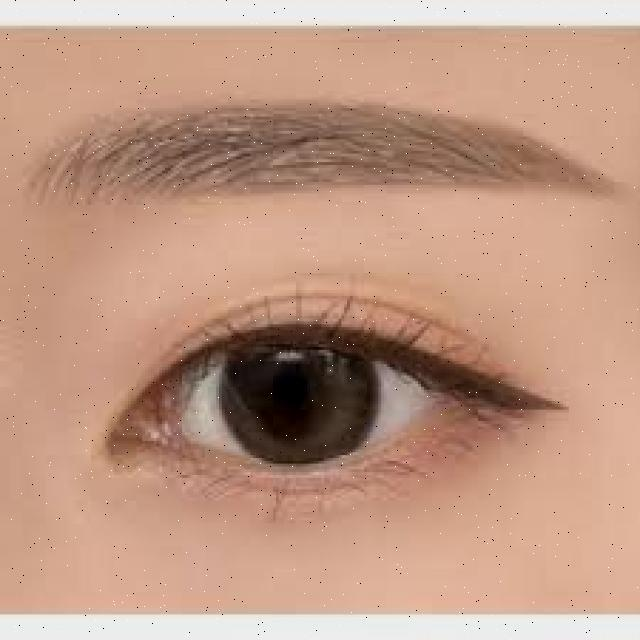Normal: (99, 284, 566, 520)
